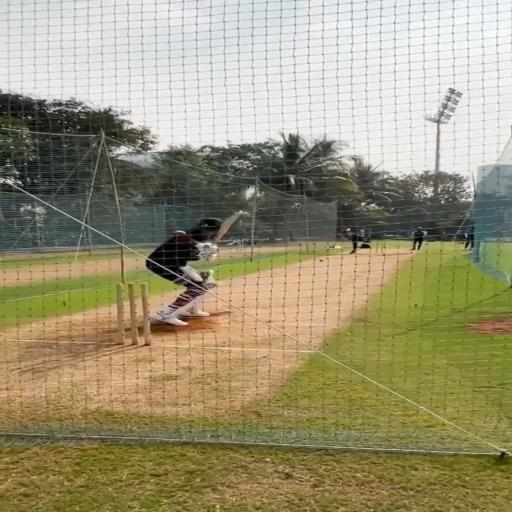Cricket bat: (214, 210, 243, 242)
